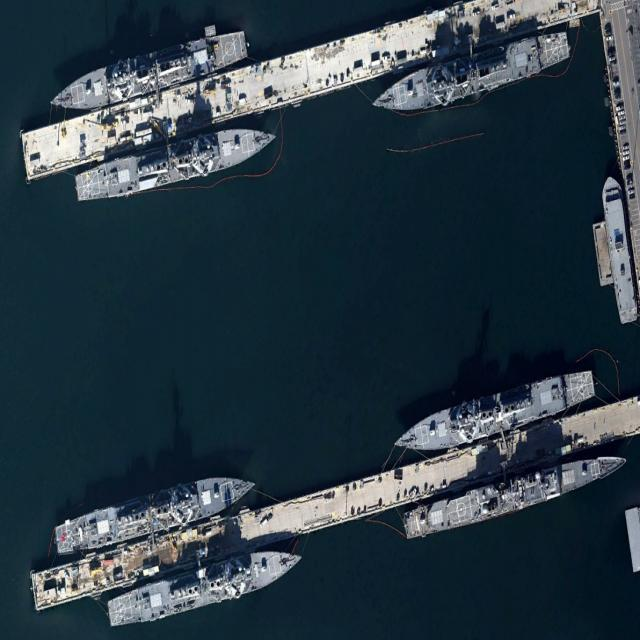Cruiser: (401, 441, 629, 545)
Destroyer: (46, 15, 249, 124), (390, 361, 596, 465), (52, 460, 260, 562), (369, 22, 570, 125), (74, 114, 279, 211), (105, 537, 308, 632)
Other Warship: (598, 171, 640, 326)
